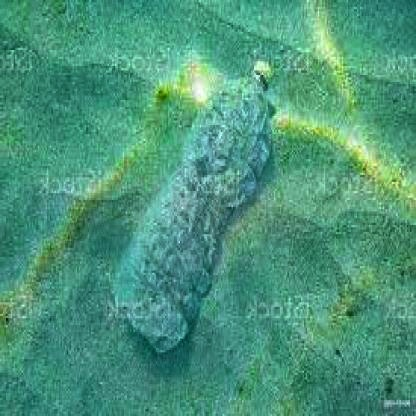pbottle: (103, 50, 280, 366)
